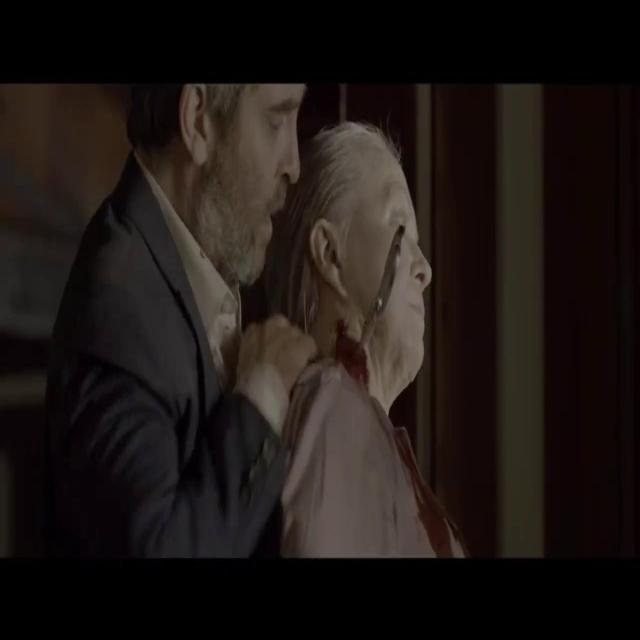flood: (338, 324, 370, 396)
